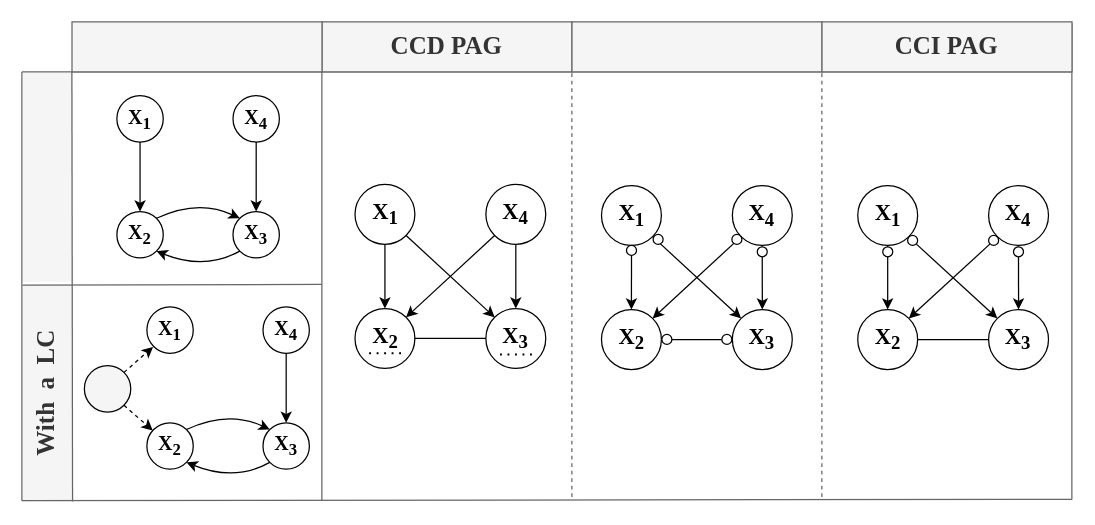
This 1095x525 diagram has some shape labels left out. The shapes that lost their labels are listed below. From the top down, each one's centre as x and y in pixels, then its label:
the point at 196,46: True DCG
the point at 696,46: FCI PAG
the point at 47,176: Without a LC
the point at 107,388: L 1
